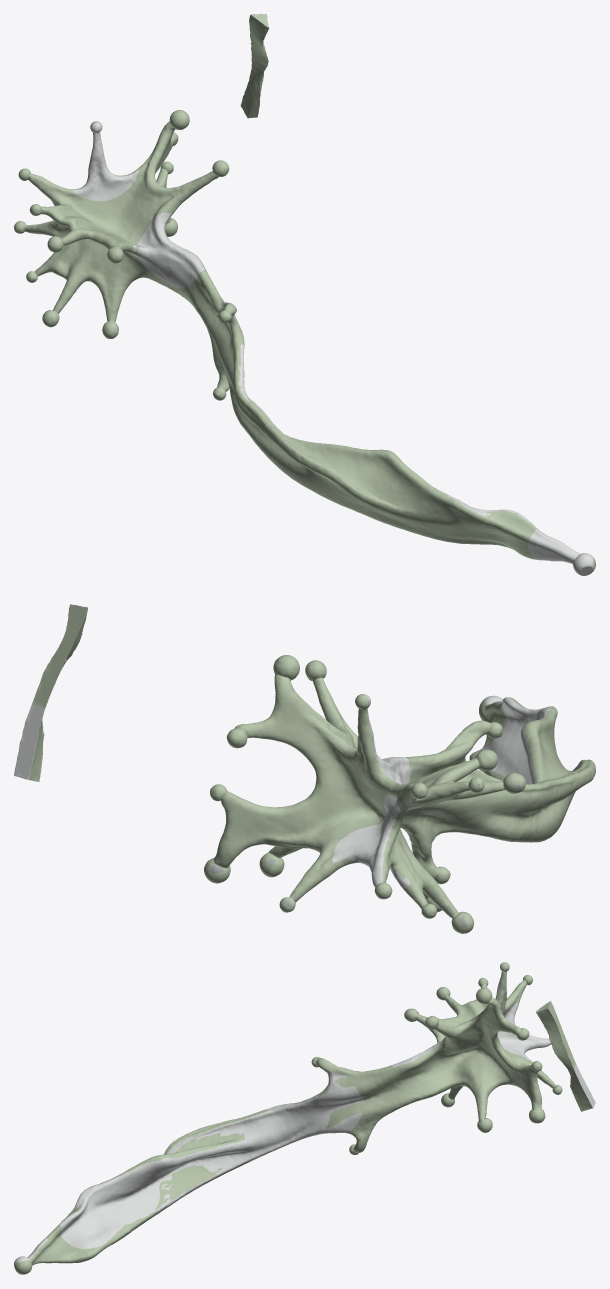
File: wave.glb
The picture shows the model from 3 angles, top to bottom: view 1: azimuth 30°, elevation 25°; view 2: azimuth 150°, elevation 25°; view 3: azimuth 270°, elevation 25°; orthographic projection. The views are drawn at different scales.
Bounding box in the file's own units: 0.7102 × 0.7441 × 1.46.
